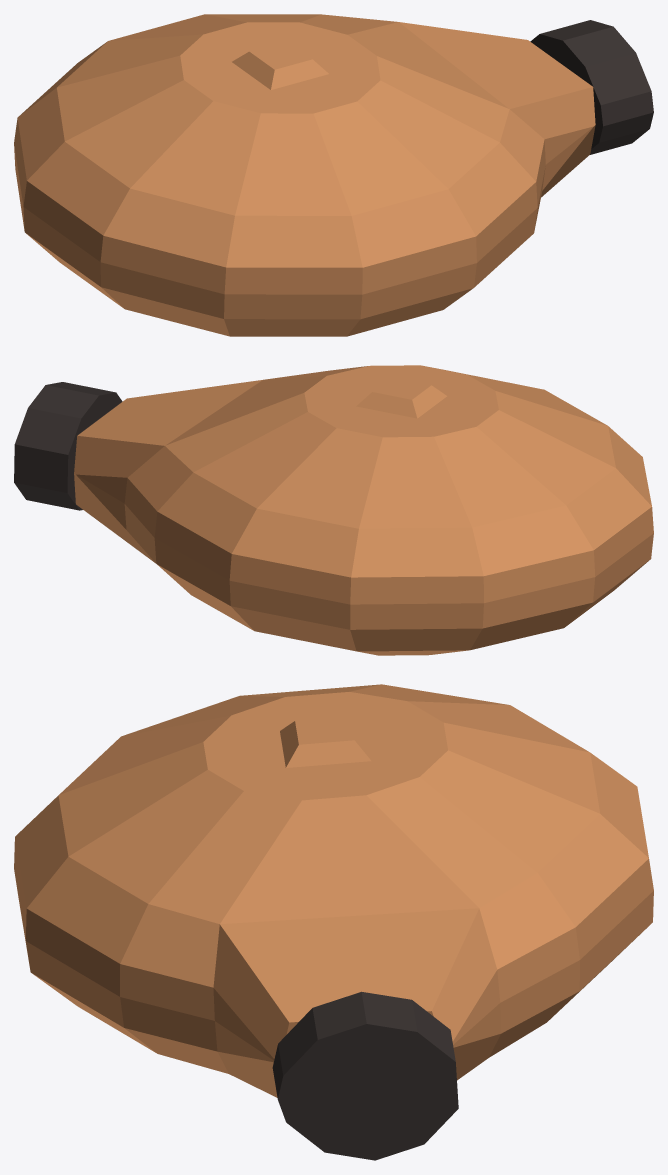
Rendered from SM_bottle_water.fbx.
3 renders of one model, top to bottom at view 1: azimuth 30°, elevation 25°; view 2: azimuth 150°, elevation 25°; view 3: azimuth 270°, elevation 25°, orthographic. The views are drawn at different scales.
Visible parts, largest first — view 1: bottle_water; view 2: bottle_water; view 3: bottle_water.
Part boxes in pixels (x1=…): bottle_water: x1=14, y1=14, x2=653, y2=336; bottle_water: x1=14, y1=365, x2=653, y2=655; bottle_water: x1=14, y1=684, x2=653, y2=1160.
Size of the model in its own units: 26.77 by 10.88 by 20.84.
